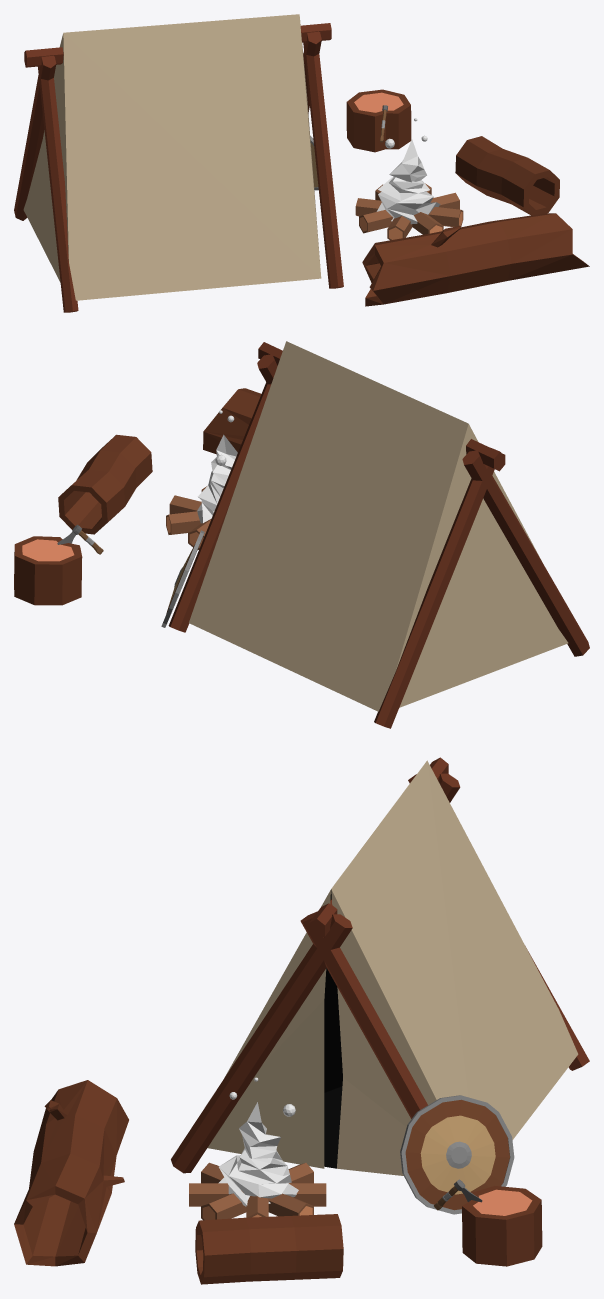
Rendered from camp.dae.
The picture shows the model from 3 angles, top to bottom: view 1: azimuth 30°, elevation 25°; view 2: azimuth 150°, elevation 25°; view 3: azimuth 270°, elevation 25°; orthographic projection. The views are drawn at different scales.
Parts seen in each view (by area): view 1: tent, wood_seating2, tent_wood, wood_seating, woodblock, campfire_wood, fire; view 2: tent, tent_wood, wood_seating, woodblock, wood_seating2, fire, campfire_wood, wooden_shield; view 3: tent, wood_seating2, tent_wood, wooden_shield, wood_seating, woodblock, campfire_wood, fire.
Part boxes in pixels (bbox=[...]): tent: bbox=[23, 14, 321, 300]; wood_seating2: bbox=[362, 213, 589, 306]; tent_wood: bbox=[14, 23, 343, 312]; wood_seating: bbox=[455, 136, 559, 215]; woodblock: bbox=[346, 89, 411, 152]; campfire_wood: bbox=[355, 183, 463, 240]; fire: bbox=[376, 139, 440, 224]; tent: bbox=[189, 341, 568, 711]; tent_wood: bbox=[168, 342, 589, 728]; wood_seating: bbox=[58, 434, 152, 534]; woodblock: bbox=[14, 536, 82, 605]; wood_seating2: bbox=[203, 388, 261, 454]; fire: bbox=[197, 434, 237, 523]; campfire_wood: bbox=[166, 486, 211, 549]; wooden_shield: bbox=[161, 530, 204, 627]; tent: bbox=[207, 760, 578, 1175]; wood_seating2: bbox=[14, 1080, 128, 1266]; tent_wood: bbox=[171, 757, 589, 1173]; wooden_shield: bbox=[400, 1095, 514, 1214]; wood_seating: bbox=[195, 1214, 343, 1284]; woodblock: bbox=[462, 1186, 542, 1266]; campfire_wood: bbox=[189, 1162, 326, 1220]; fire: bbox=[218, 1102, 298, 1206].
Bounding box in the file's own units: 19 × 15.88 × 9.12.
